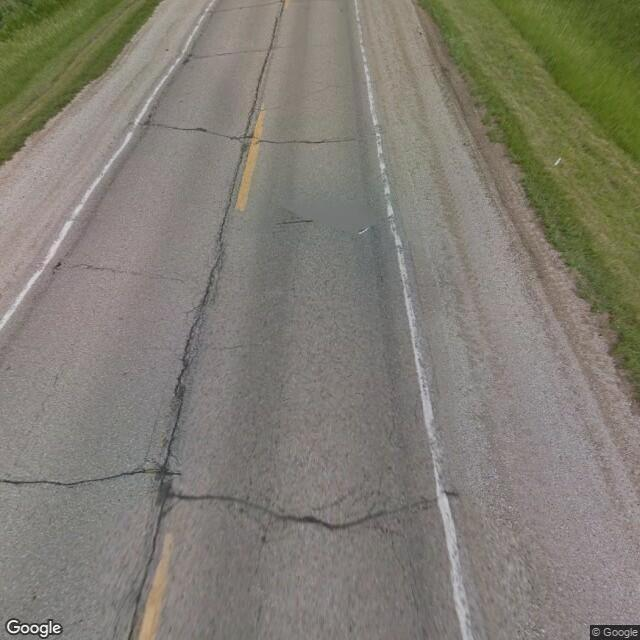GRIETA: (127, 146, 246, 639), (171, 493, 434, 529), (244, 0, 286, 134), (0, 466, 160, 486), (66, 263, 184, 282), (153, 123, 243, 139), (214, 1, 279, 13), (190, 50, 261, 59), (258, 138, 355, 144), (174, 127, 212, 134)
